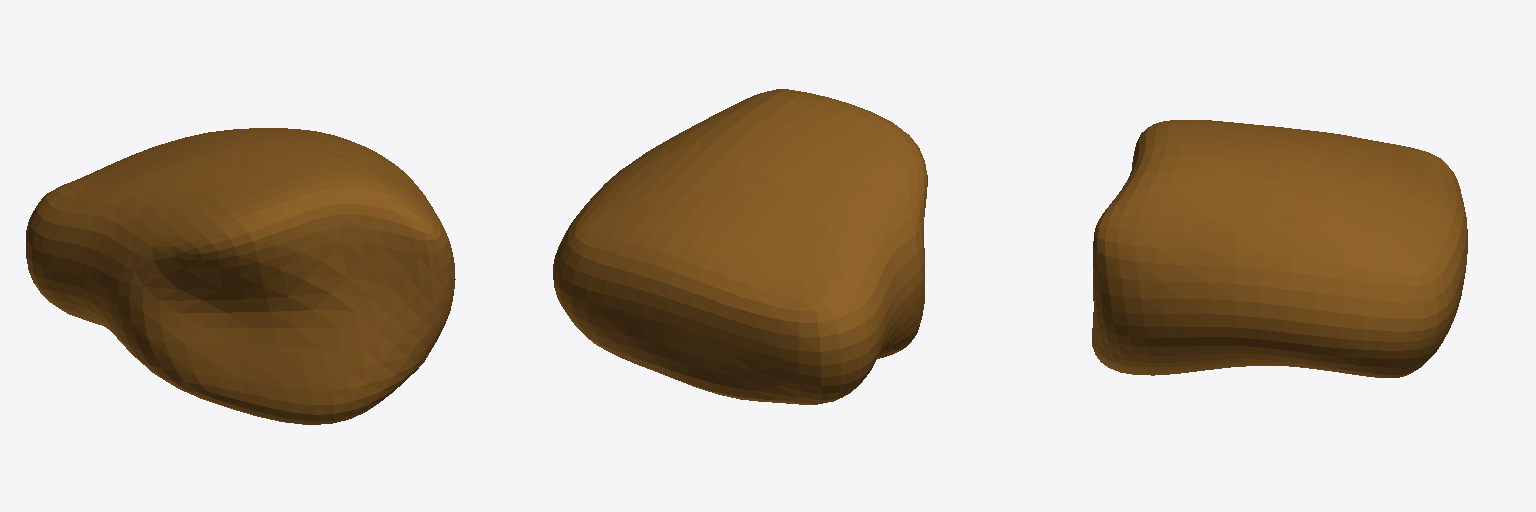
The model's file is hand.obj.
The picture shows the model from 3 angles: view 1: azimuth 30°, elevation 25°; view 2: azimuth 150°, elevation 25°; view 3: azimuth 270°, elevation 25°; orthographic projection.
Parts seen in each view (by area): view 1: hand; view 2: hand; view 3: hand.
Boxes of the visible parts, <box> form: hand: <box>26,128,455,424</box>; hand: <box>553,89,927,404</box>; hand: <box>1092,120,1467,377</box>.
Size of the model in its own units: 3.85 by 2.56 by 3.85.